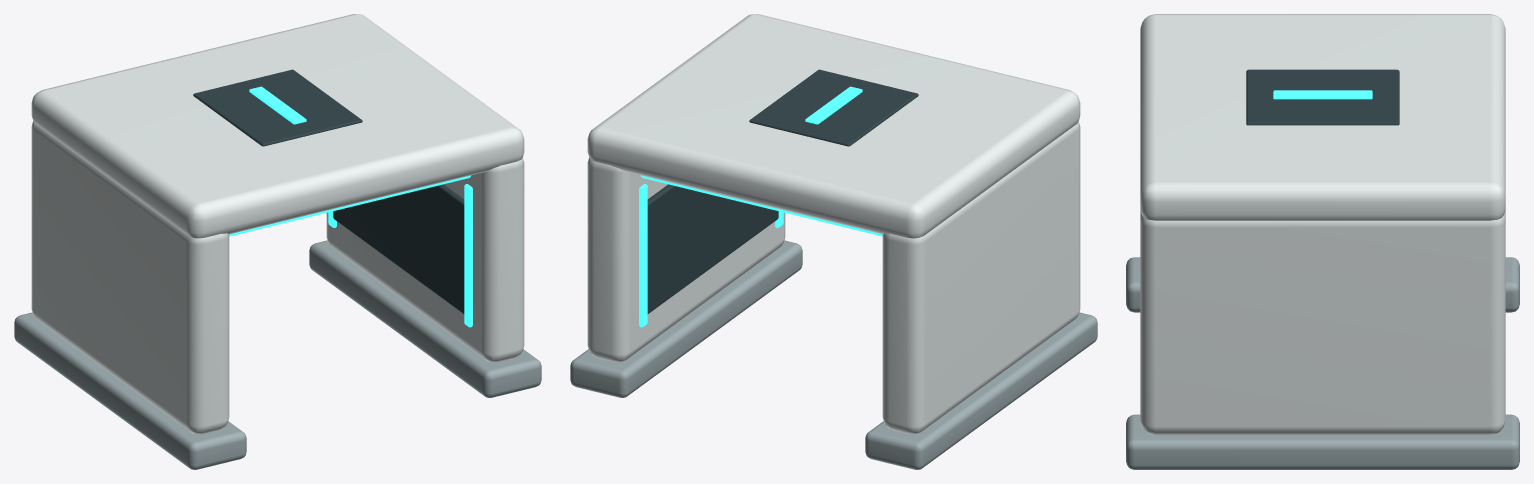
The model's file is checkout-tunnel.glb.
The picture shows the model from 3 angles, left to right: view 1: azimuth 30°, elevation 25°; view 2: azimuth 150°, elevation 25°; view 3: azimuth 270°, elevation 25°; orthographic projection. The views are drawn at different scales.
Parts seen in each view (by area): view 1: Rounded scanner canopy, Scanner side -1, Scanner side 1, Internal scanner 1, Foot -1, Foot 1, Top graphite badge, Vertical light 1 -1, Top status stripe, Overhead scanning bar -1; view 2: Rounded scanner canopy, Scanner side -1, Scanner side 1, Internal scanner 1, Foot -1, Foot 1, Top graphite badge, Vertical light 1 1, Top status stripe, Overhead scanning bar 1; view 3: Scanner side 1, Rounded scanner canopy, Foot 1, Top graphite badge, Foot -1, Top status stripe.
Boxes of the visible parts, left/top/right/bottom form: Rounded scanner canopy: left=31, top=14, right=524, bottom=238; Scanner side -1: left=31, top=121, right=229, bottom=434; Scanner side 1: left=326, top=158, right=524, bottom=362; Internal scanner 1: left=333, top=184, right=464, bottom=313; Foot -1: left=14, top=312, right=246, bottom=469; Foot 1: left=309, top=240, right=541, bottom=397; Top graphite badge: left=193, top=69, right=362, bottom=146; Vertical light 1 -1: left=464, top=184, right=472, bottom=327; Top status stripe: left=249, top=86, right=306, bottom=124; Overhead scanning bar -1: left=229, top=175, right=470, bottom=236; Rounded scanner canopy: left=587, top=14, right=1080, bottom=238; Scanner side -1: left=882, top=121, right=1080, bottom=434; Scanner side 1: left=587, top=158, right=785, bottom=362; Internal scanner 1: left=647, top=184, right=778, bottom=313; Foot -1: left=865, top=312, right=1097, bottom=469; Foot 1: left=570, top=240, right=802, bottom=397; Top graphite badge: left=749, top=69, right=918, bottom=146; Vertical light 1 1: left=639, top=184, right=647, bottom=327; Top status stripe: left=805, top=86, right=862, bottom=124; Overhead scanning bar 1: left=641, top=175, right=882, bottom=236; Scanner side 1: left=1140, top=211, right=1505, bottom=435; Rounded scanner canopy: left=1140, top=14, right=1505, bottom=220; Foot 1: left=1126, top=414, right=1519, bottom=469; Top graphite badge: left=1246, top=69, right=1399, bottom=125; Foot -1: left=1126, top=257, right=1519, bottom=312; Top status stripe: left=1273, top=90, right=1372, bottom=99.
Size of the model in its own units: 1.89 by 1.33 by 1.67.
